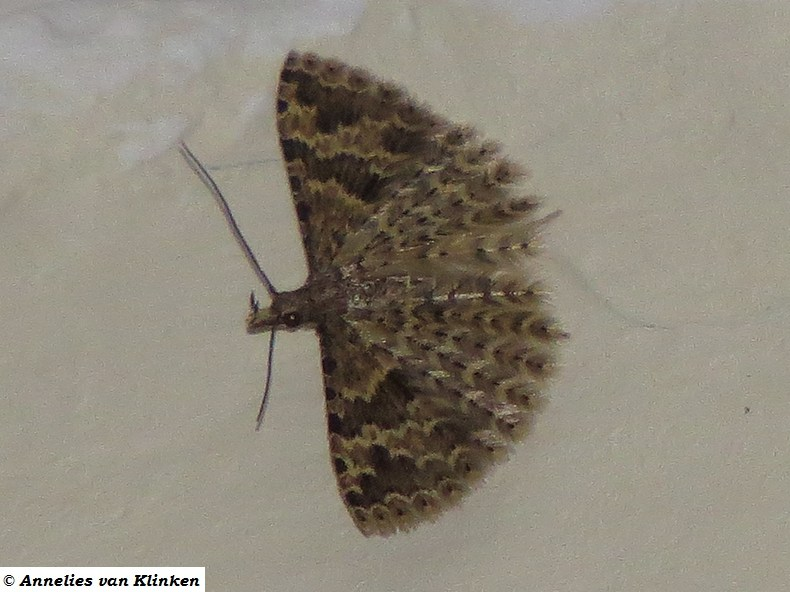Alucitidae: (172, 49, 568, 535)
moth: (170, 47, 566, 533)
